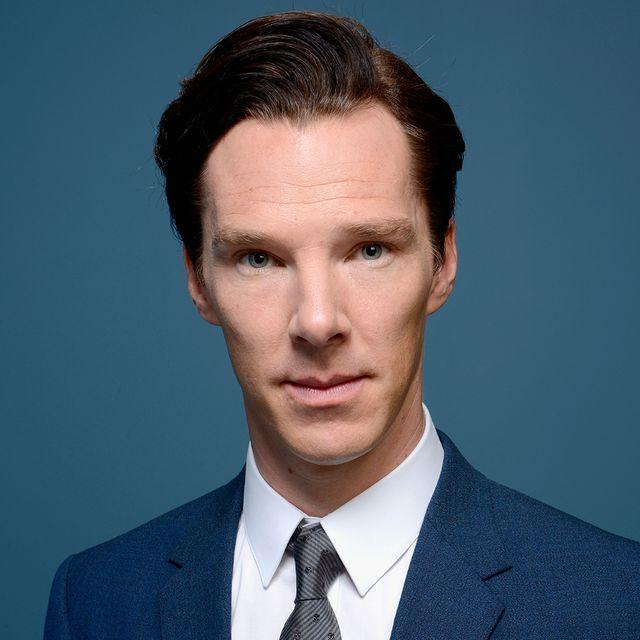Face and Hair: (145, 6, 484, 477)
